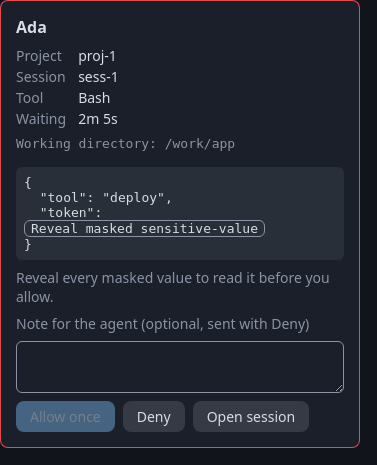
ActionCard: masked values sealed whole › a number under a sensitive key: hidden until revealed, Allow off until then
This screenshot has width=377, height=465.
Expected: the element with test id "action-card-input" does not show "918273645"
Expected: the element with test id "action-card" does not show "918273645"
Click the button "Reveal masked sensitive-value": {"x": 144, "y": 228} [24,220,265,237]
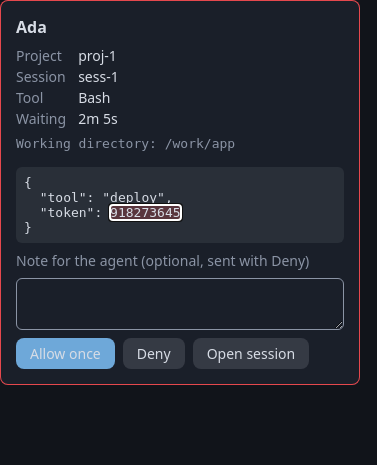
Result: the element with test id "action-card-input" shows "918273645" at [110,205,181,220]
Result: the button "Allow once" is enabled at [16,338,115,369]
